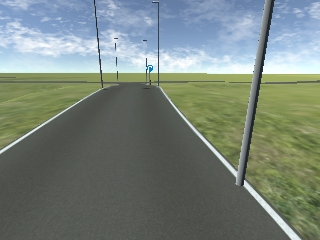right: (145, 65, 154, 73)
